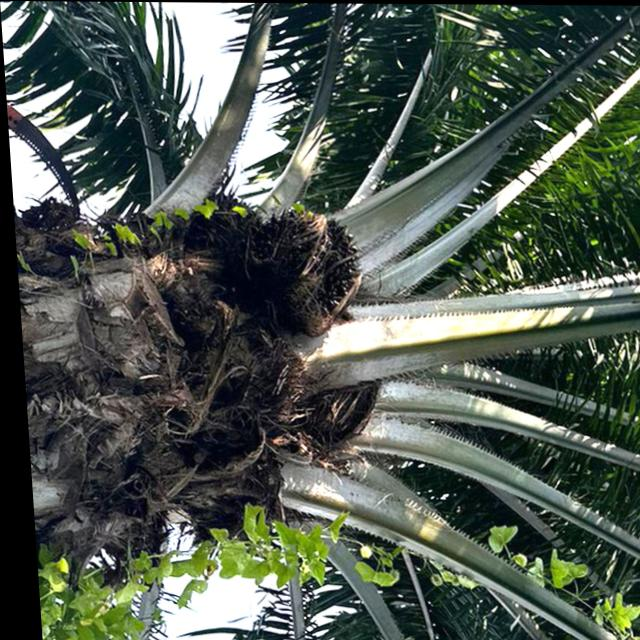unripe: (227, 201, 379, 338)
